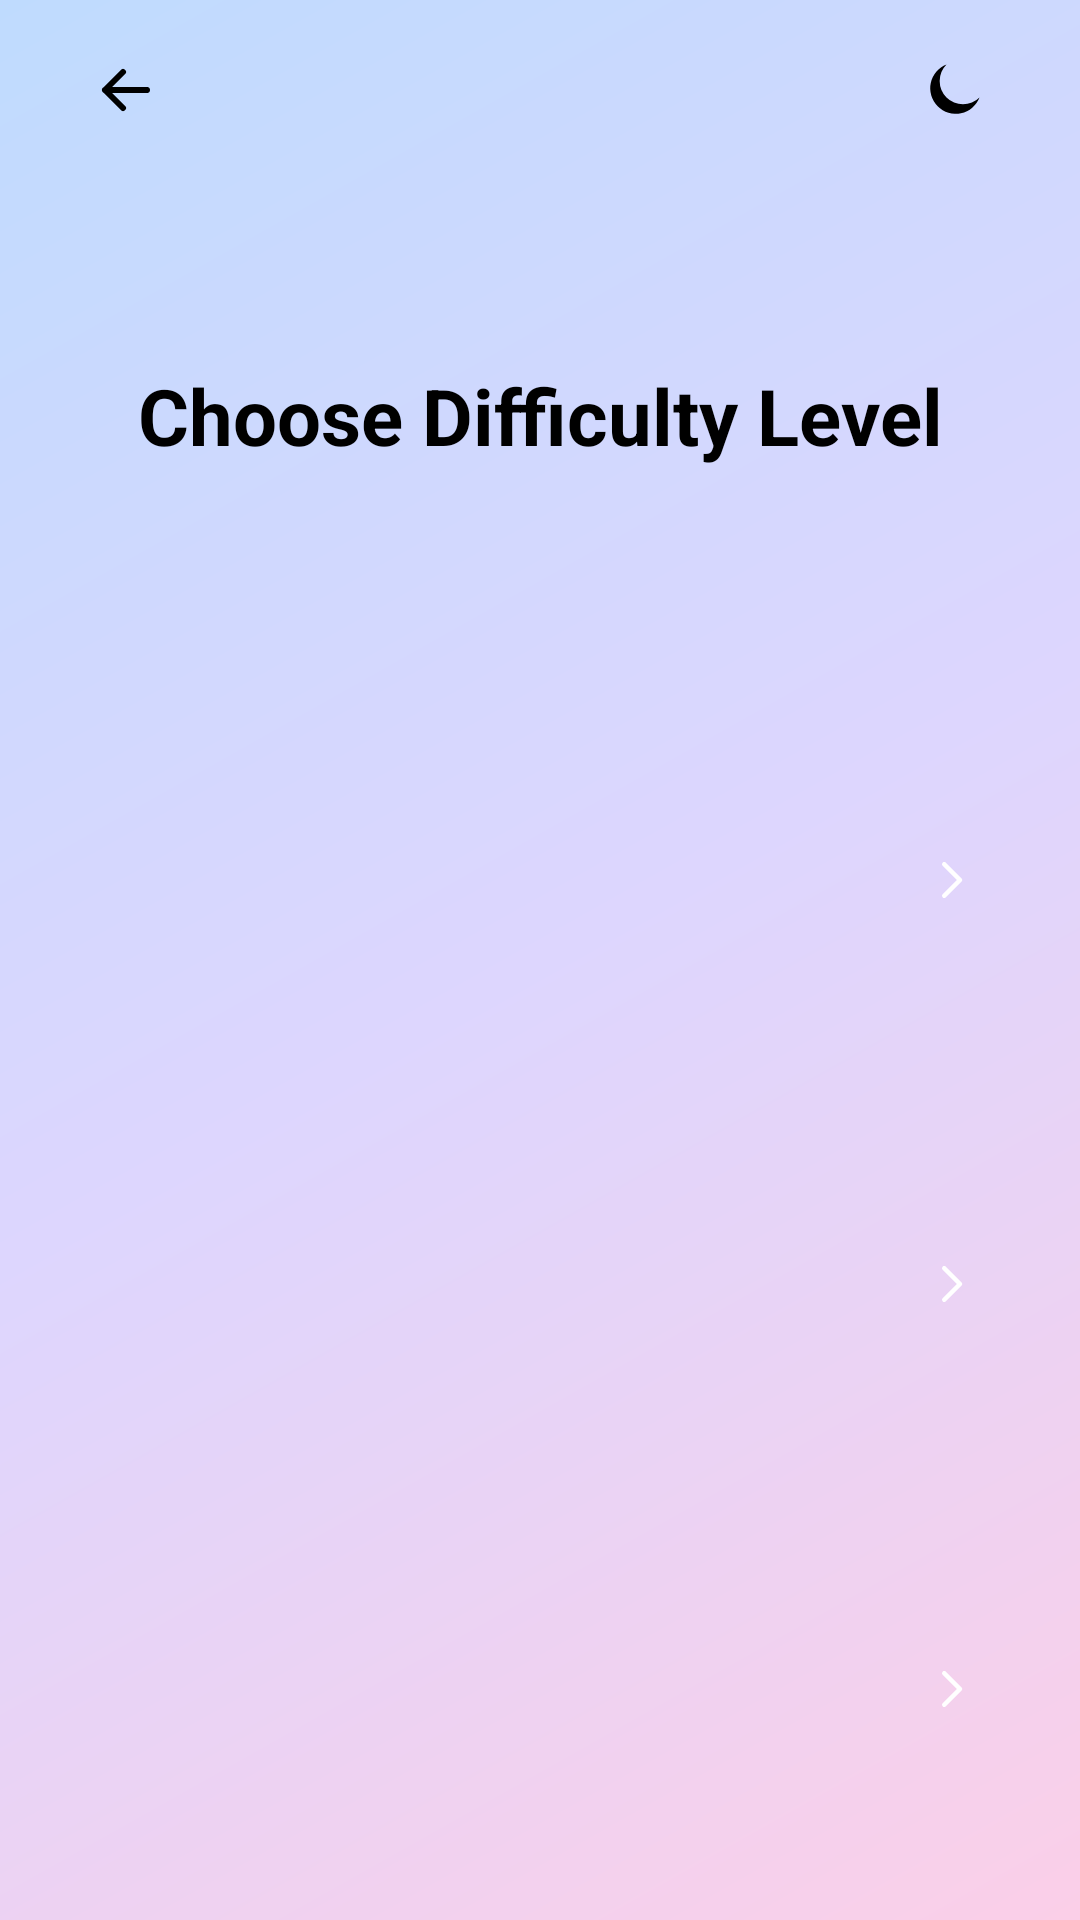

Icon click points for this 1080 x 1920 phone screenshot, format (x=x, y=y):
arrow back: (x=126, y=90)
forward: (x=952, y=880), (x=952, y=1284), (x=952, y=1689)
moon: (x=955, y=89)
